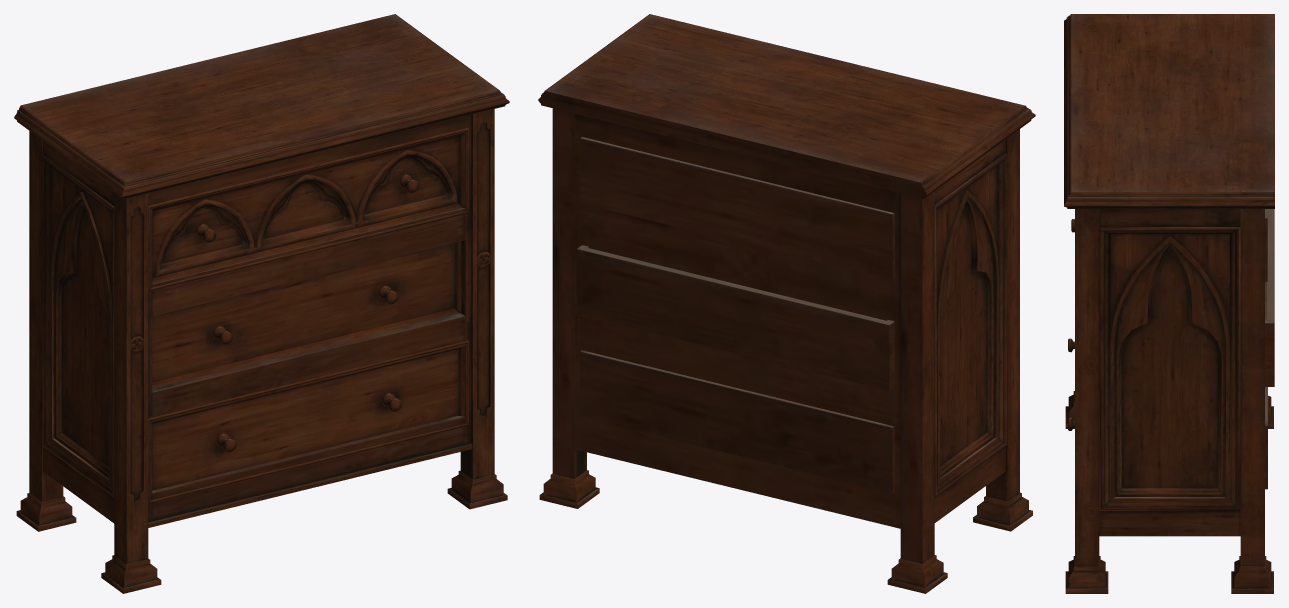
The model's file is GothicCommode_01.glb.
3 views of the same model, side by side, from view 1: azimuth 30°, elevation 25°; view 2: azimuth 150°, elevation 25°; view 3: azimuth 270°, elevation 25° (orthographic). The views are drawn at different scales.
Visible parts, largest first — view 1: GothicCommode_01; view 2: GothicCommode_01; view 3: GothicCommode_01.
Part boxes in pixels (box(x1,y1,x2,y2)): GothicCommode_01: box(14, 14, 509, 593); GothicCommode_01: box(538, 14, 1035, 593); GothicCommode_01: box(1064, 14, 1274, 593).
Bounding box in the file's own units: 1.2 × 1.21 × 0.5807.
Materials: 1 (1 with a texture image).
